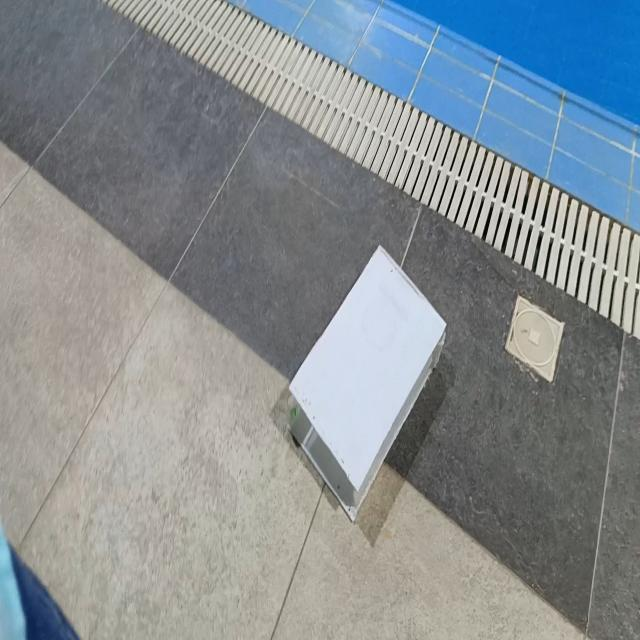Cuboid: (287, 242, 447, 522)
